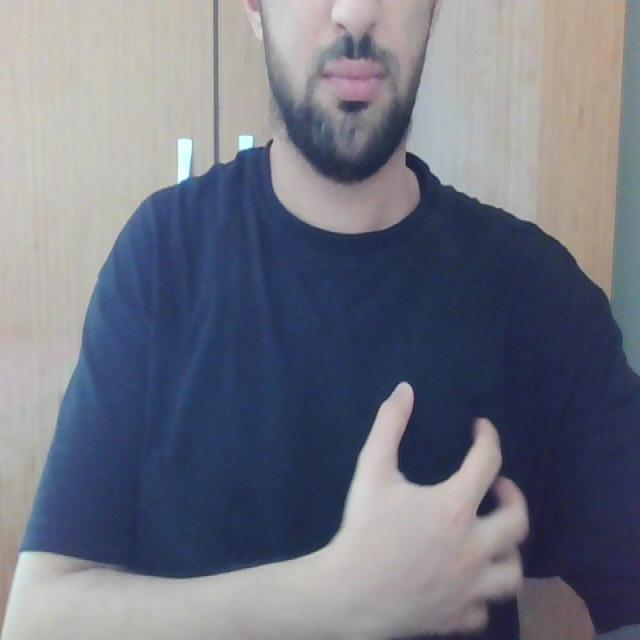Anne: (330, 375, 540, 640)
